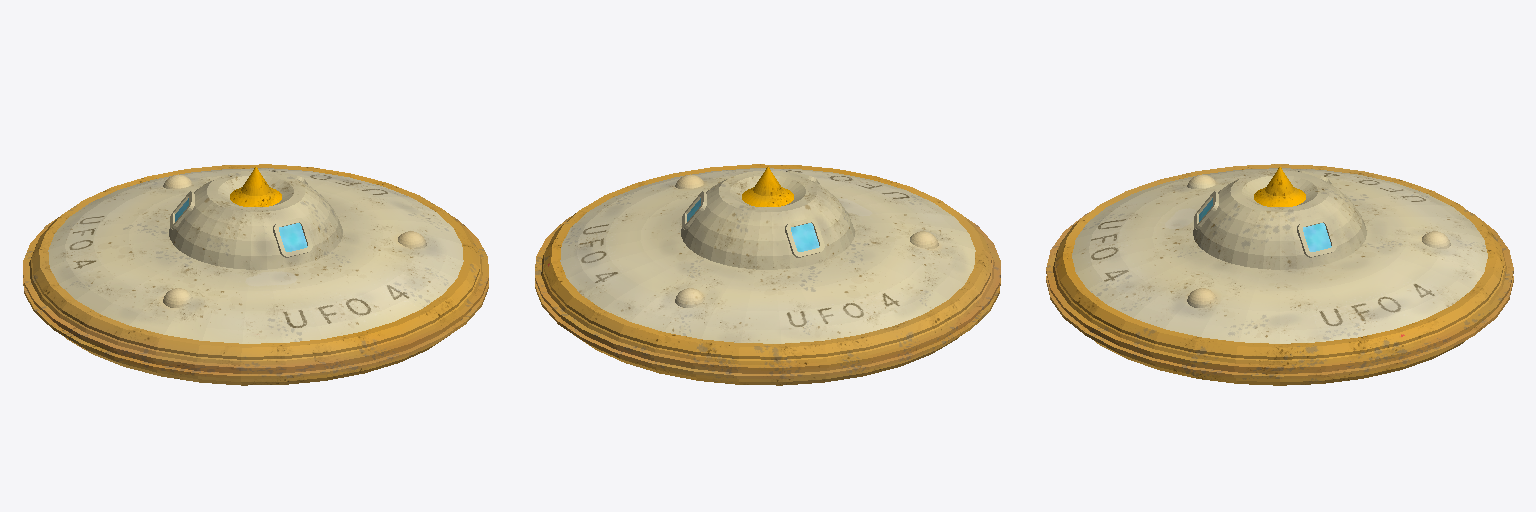
3 renders of one model, left to right at view 1: azimuth 30°, elevation 25°; view 2: azimuth 150°, elevation 25°; view 3: azimuth 270°, elevation 25°, orthographic.
Parts seen in each view (by area): view 1: ufo_Sphere; view 2: ufo_Sphere; view 3: ufo_Sphere.
Part boxes in pixels (x1,y1,x2,y2): ufo_Sphere: (23,164,488,385); ufo_Sphere: (535,164,1000,385); ufo_Sphere: (1046,164,1513,385).
Bounding box in the file's own units: 2.03 × 0.8618 × 2.03.
Materials: 1 (1 with a texture image).